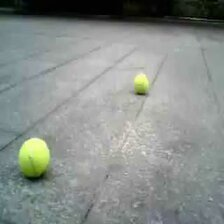tennis: (17, 138, 49, 176), (134, 74, 149, 94)
